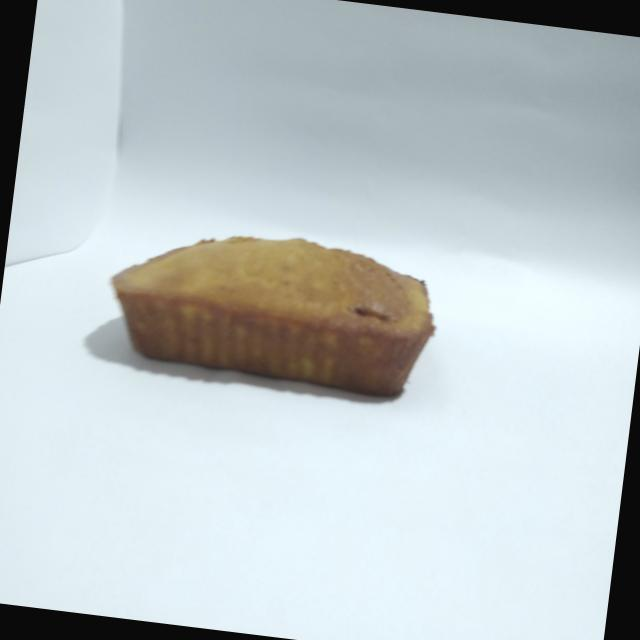Sopa: (91, 196, 458, 418)
